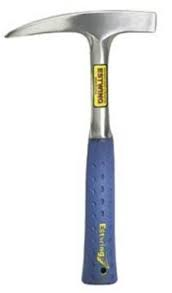hammer: (5, 8, 157, 285)
